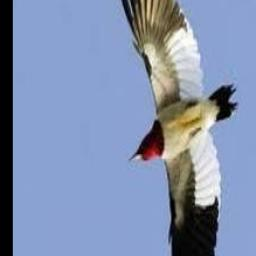Woodpecker: (119, 0, 238, 256)
